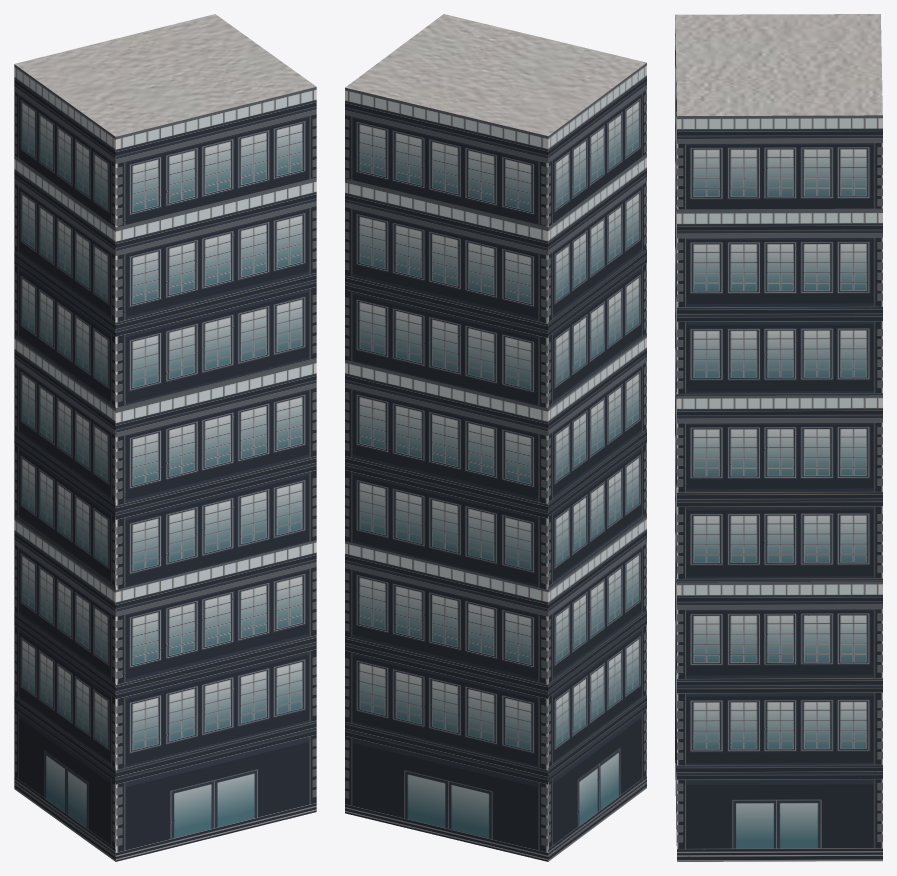
Rendered from MainBuilding.fbx.
3 renders of one model, left to right at view 1: azimuth 30°, elevation 25°; view 2: azimuth 150°, elevation 25°; view 3: azimuth 270°, elevation 25°, orthographic. The views are drawn at different scales.
Parts seen in each view (by area): view 1: building_004.069; view 2: building_004.069; view 3: building_004.069.
Boxes of the visible parts, box(x1,y1,x2,y2) form: building_004.069: box(14, 14, 316, 861); building_004.069: box(345, 14, 646, 861); building_004.069: box(675, 14, 882, 861).
Bounding box in the file's own units: 1410 × 4800 × 1212.
2 materials, 2 textured.
